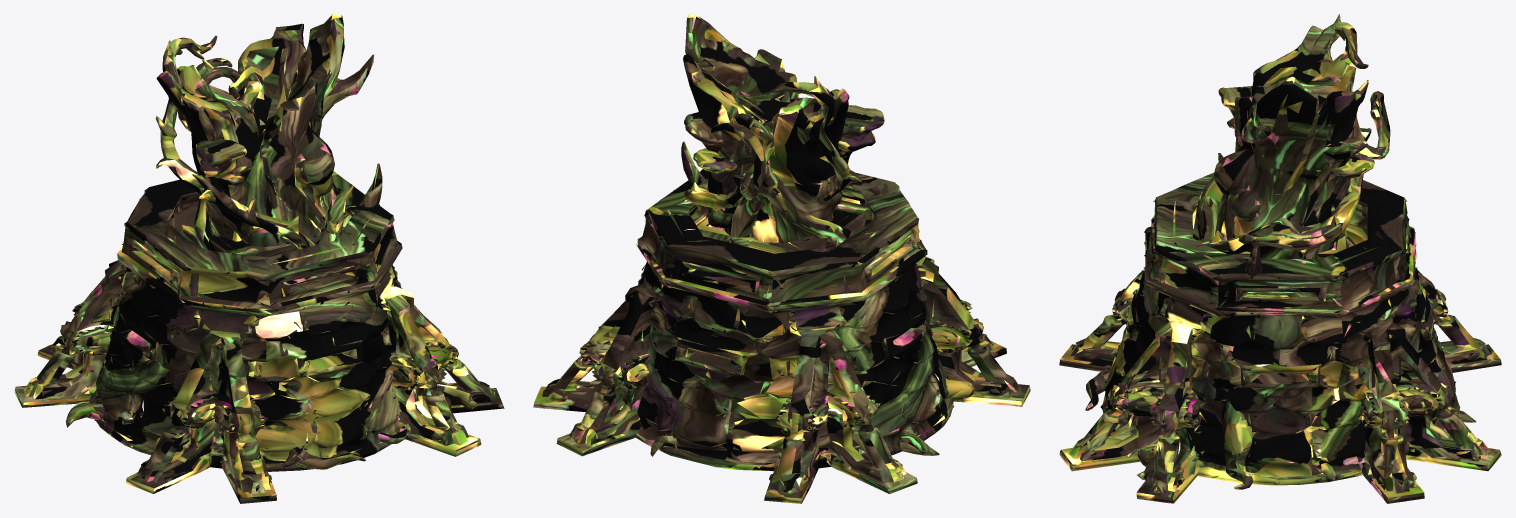
The model's file is bramblewall_kitbash_thornsnare_barricade_v01_prepared.fbx.
The picture shows the model from 3 angles, left to right: view 1: azimuth 30°, elevation 25°; view 2: azimuth 150°, elevation 25°; view 3: azimuth 270°, elevation 25°; orthographic projection. The views are drawn at different scales.
Parts seen in each view (by area): view 1: LTW_BrambleWall_Kitbash; view 2: LTW_BrambleWall_Kitbash; view 3: LTW_BrambleWall_Kitbash.
Boxes of the visible parts, x1=… form: LTW_BrambleWall_Kitbash: x1=14, y1=14, x2=504, y2=503; LTW_BrambleWall_Kitbash: x1=533, y1=14, x2=1030, y2=503; LTW_BrambleWall_Kitbash: x1=1059, y1=14, x2=1501, y2=503.
Bounding box in the file's own units: 192 × 179 × 192.
